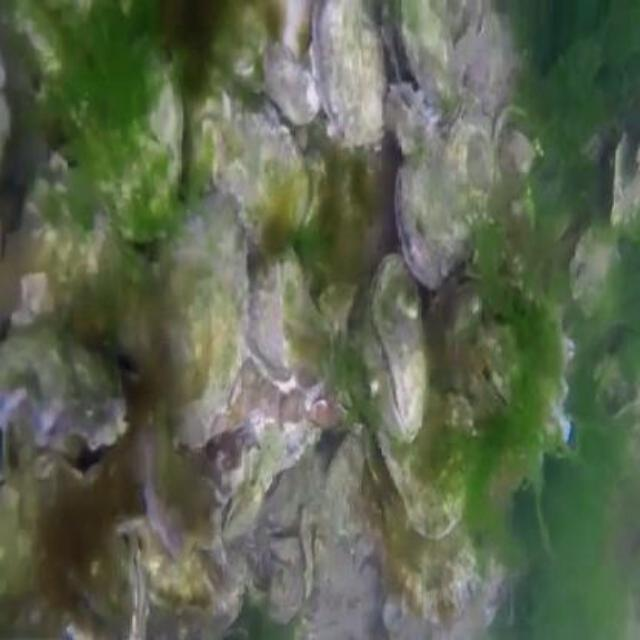Oyster-Closed: (10, 170, 248, 449), (0, 517, 147, 639), (394, 121, 494, 289), (216, 90, 309, 258), (369, 386, 467, 539), (142, 407, 221, 558), (309, 1, 389, 147), (369, 253, 428, 438), (247, 257, 304, 391), (140, 518, 215, 615), (396, 0, 458, 104), (567, 227, 619, 315), (384, 84, 434, 153), (470, 350, 512, 417), (225, 484, 261, 537)
Oyster-Open: (97, 39, 185, 268), (0, 337, 128, 484), (611, 131, 640, 225)
